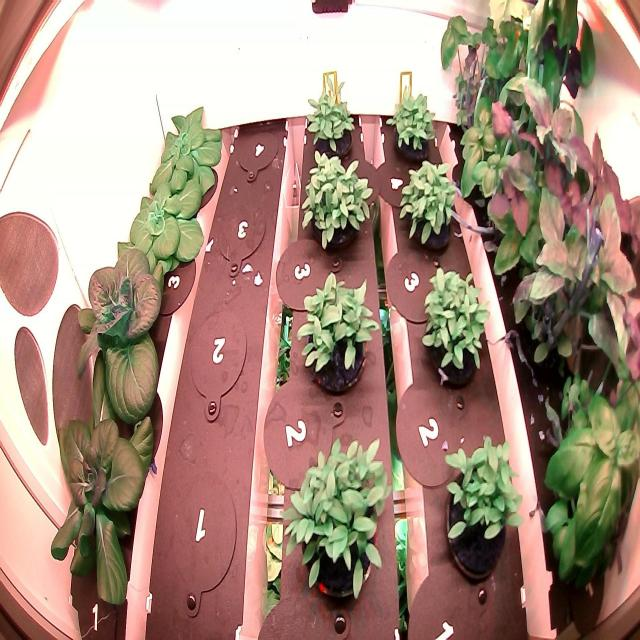empty_pod: (164, 471, 242, 609), (184, 305, 253, 427), (206, 188, 272, 278), (231, 113, 288, 190)
young: (46, 372, 165, 631), (69, 235, 183, 440), (115, 174, 206, 278), (148, 102, 224, 196)
